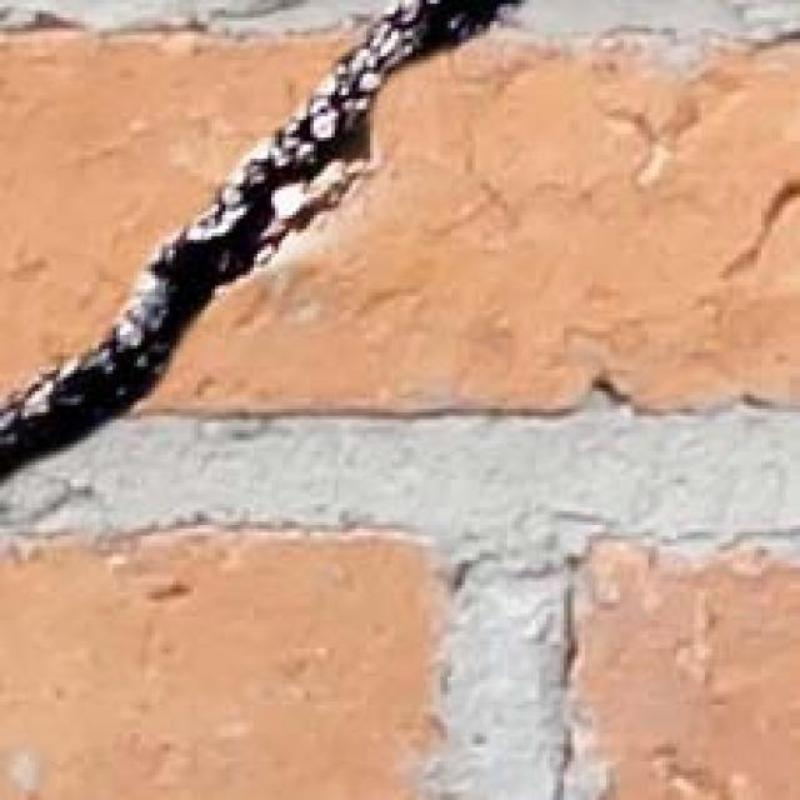crack: (0, 0, 509, 477)
